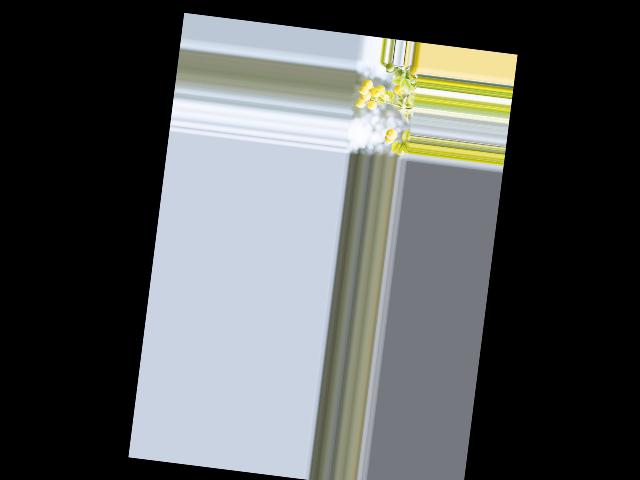lemon: (359, 78, 374, 91)
